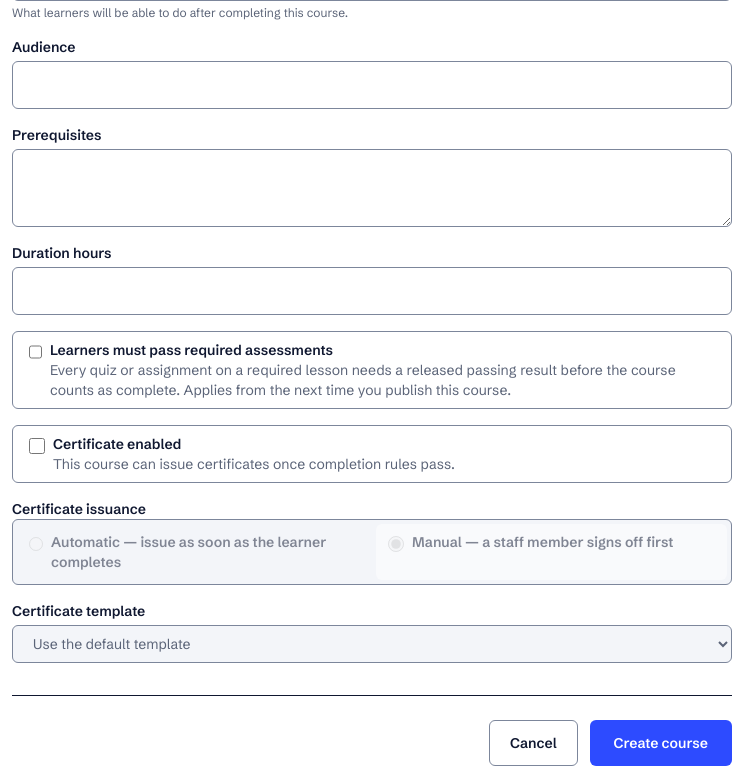
CourseForm — certificate settings › keeps the issuance-mode and template controls disabled until Certificate enabled is checked
The width and height of the screenshot is (749, 766).
(page scrolled)
Click the checkbox labelled "Certificate enabled": (37, 446) [29, 438, 45, 454]
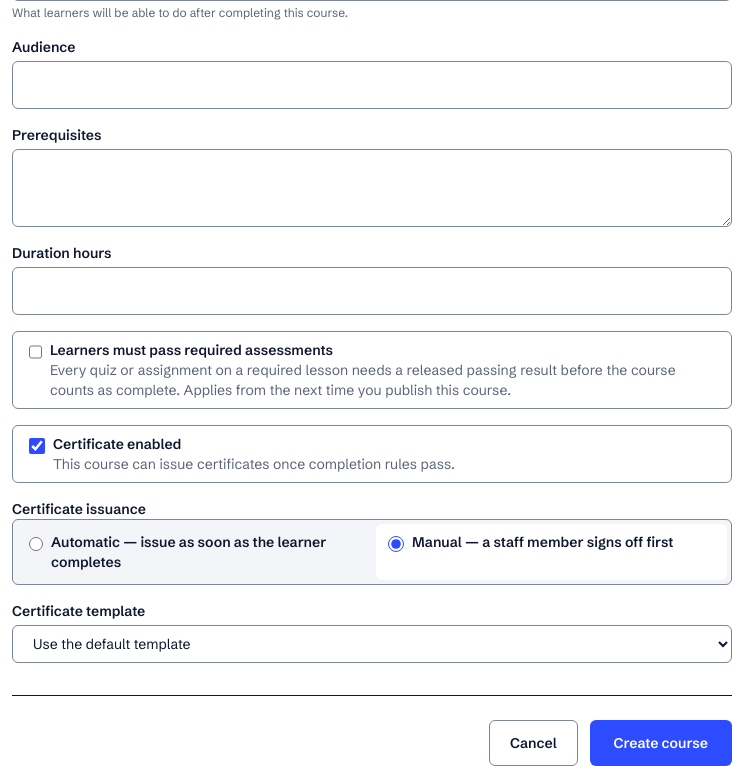
Check: the radio button labelled "Automatic — issue as soon as the learner completes" is enabled, box [29, 536, 43, 552]
